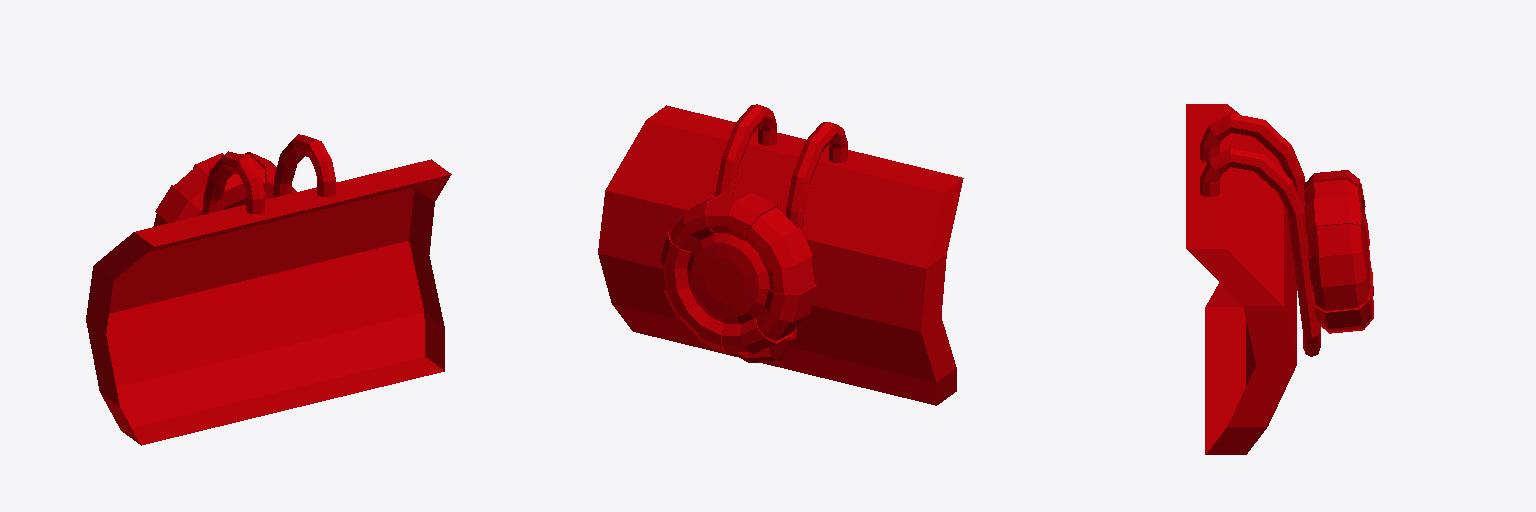
Rendered from car_body_bumper.obj.
The picture shows the model from 3 angles: view 1: azimuth 30°, elevation 25°; view 2: azimuth 150°, elevation 25°; view 3: azimuth 270°, elevation 25°; orthographic projection.
Parts seen in each view (by area): view 1: car_back_bumper_Cylinder.030; view 2: car_back_bumper_Cylinder.030; view 3: car_back_bumper_Cylinder.030.
Boxes of the visible parts, <box> form: car_back_bumper_Cylinder.030: <box>86,134,451,445</box>; car_back_bumper_Cylinder.030: <box>598,104,963,405</box>; car_back_bumper_Cylinder.030: <box>1186,104,1373,454</box>.
Size of the model in its own units: 2.42 by 1.79 by 1.22.